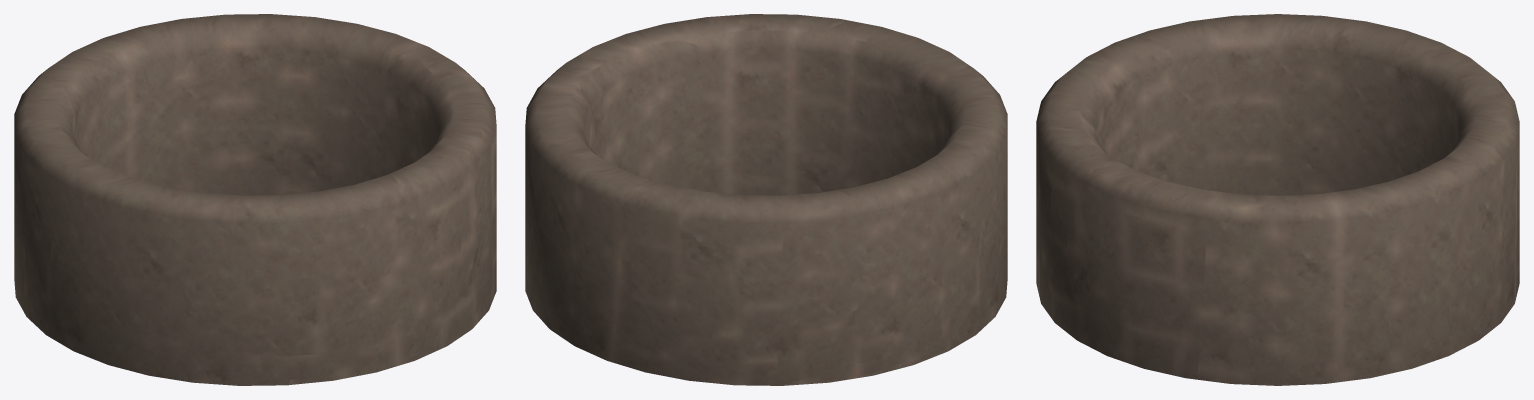
The model's file is Pozo.fbx.
3 renders of one model, left to right at view 1: azimuth 30°, elevation 25°; view 2: azimuth 150°, elevation 25°; view 3: azimuth 270°, elevation 25°, orthographic.
Parts seen in each view (by area): view 1: Pozo; view 2: Pozo; view 3: Pozo.
Boxes of the visible parts, x1,y1,x2,y2 form: Pozo: (14, 14, 496, 385); Pozo: (525, 14, 1007, 385); Pozo: (1036, 14, 1519, 385).
Bounding box in the file's own units: 1836 × 743 × 1836.
